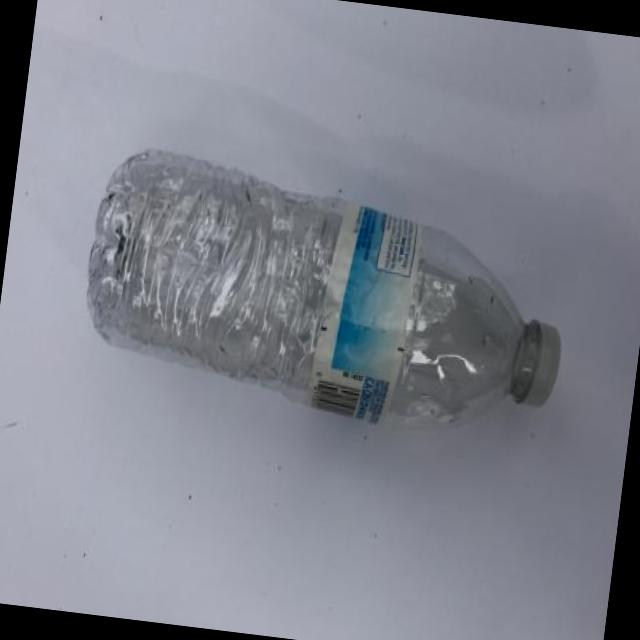Recycle: (74, 140, 582, 456)
